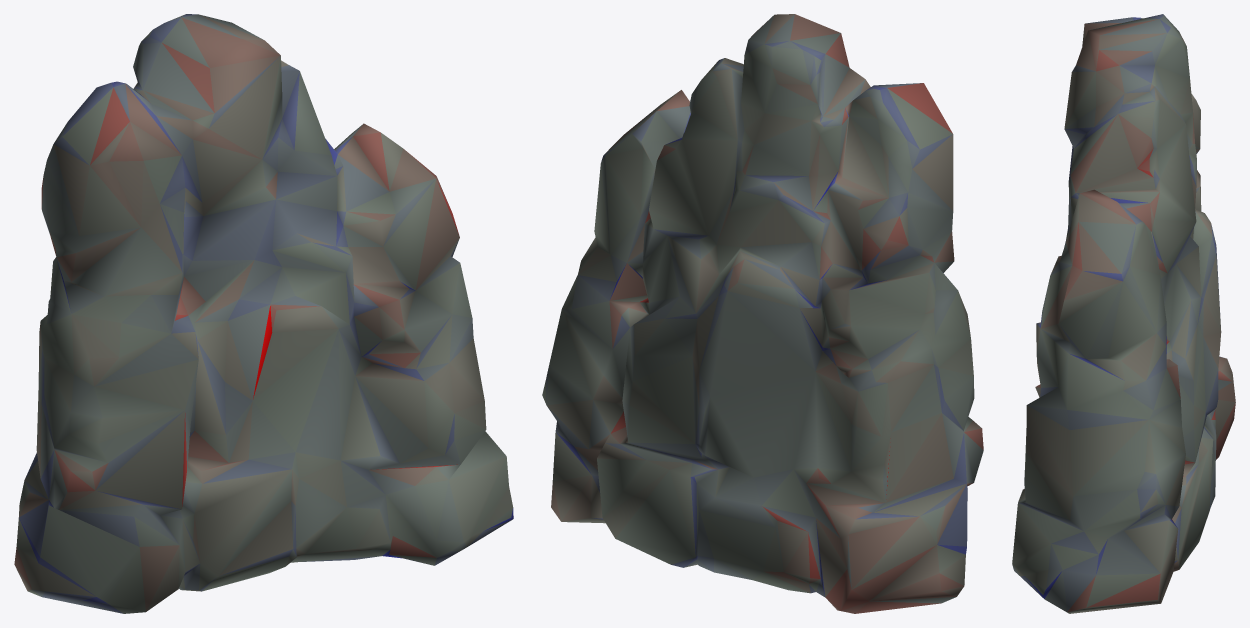
The model's file is rock_spire_clump_01_LOD.fbx.
3 views of the same model, side by side, from view 1: azimuth 30°, elevation 25°; view 2: azimuth 150°, elevation 25°; view 3: azimuth 270°, elevation 25° (orthographic). The views are drawn at different scales.
Parts seen in each view (by area): view 1: Rock_Spire_Clump_LOD1; view 2: Rock_Spire_Clump_LOD1; view 3: Rock_Spire_Clump_LOD1.
Part boxes in pixels (x1,y1,x2,y2): Rock_Spire_Clump_LOD1: [14, 14, 513, 613]; Rock_Spire_Clump_LOD1: [542, 14, 983, 613]; Rock_Spire_Clump_LOD1: [1012, 14, 1235, 613].
Bounding box in the file's own units: 600 × 710 × 296.
